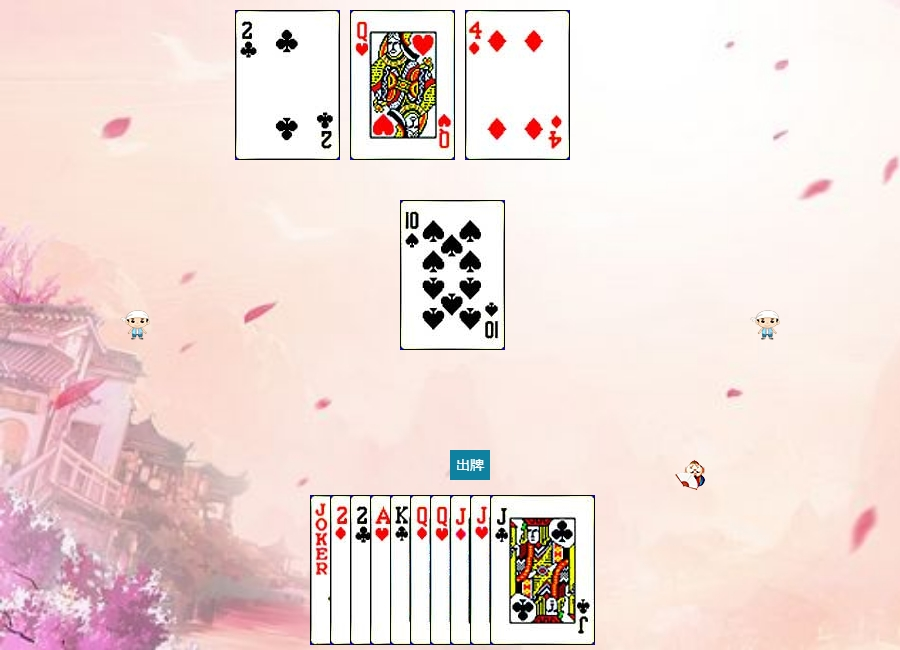10~4: (400, 200, 505, 350)
11~1: (450, 495, 555, 645)
11~2: (490, 495, 595, 645)
11~3: (470, 495, 575, 645)
12~1: (410, 495, 515, 645)
12~3: (350, 10, 455, 160), (430, 495, 535, 645)
13~2: (390, 495, 495, 645)
14~3: (370, 495, 475, 645)
15~1: (330, 495, 435, 645)
15~2: (235, 10, 340, 160), (350, 495, 455, 645)
18~4: (310, 495, 415, 645)
4~1: (465, 10, 570, 160)
